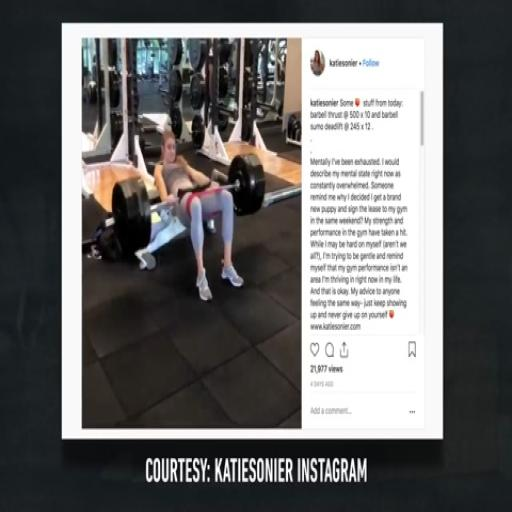exercise: (152, 128, 246, 304)
